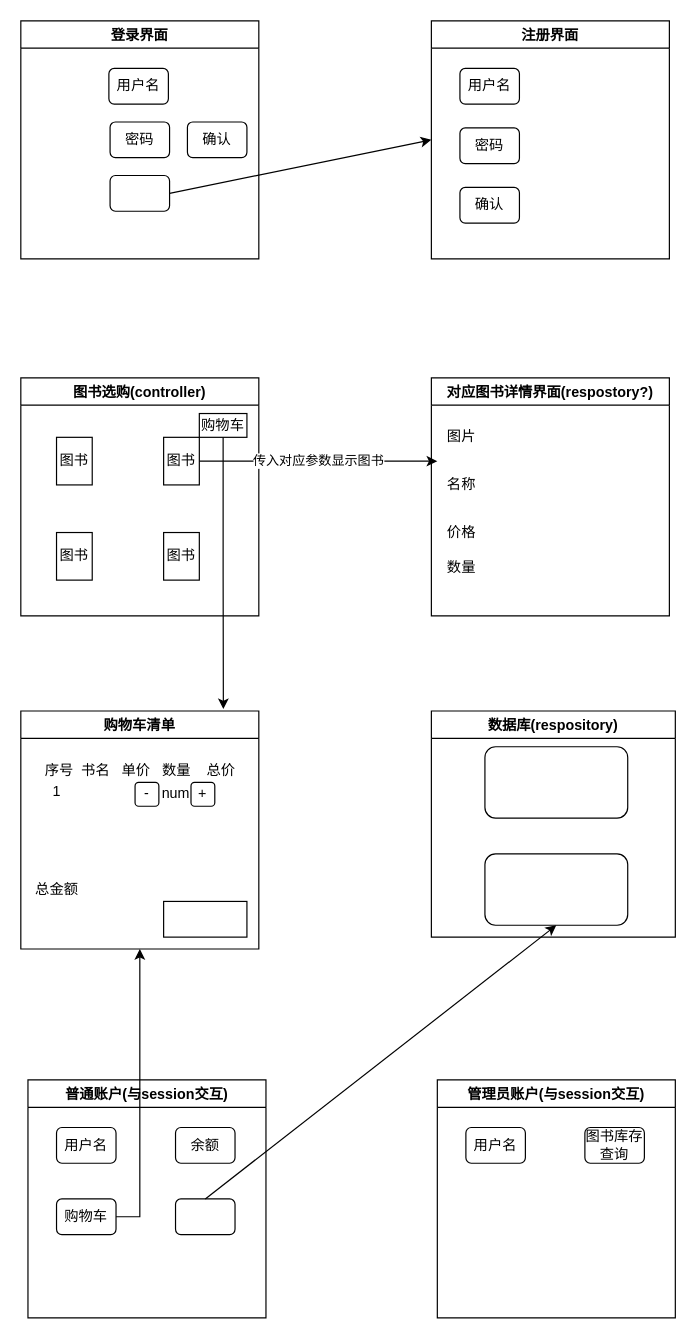
Some shapes in this 696 by 1339 pixel diagram are drawn without their labels. Here are the shapes that lost their labels. From the top down, the centre of each, then its label:
point 139,192: 注册
point 556,782: 图书 序号 书名 单价 库存
point 556,889: 历史订单 订单号(时间生成) 购物清单
point 204,918: 结算并支付
point 204,1216: 历史订单
